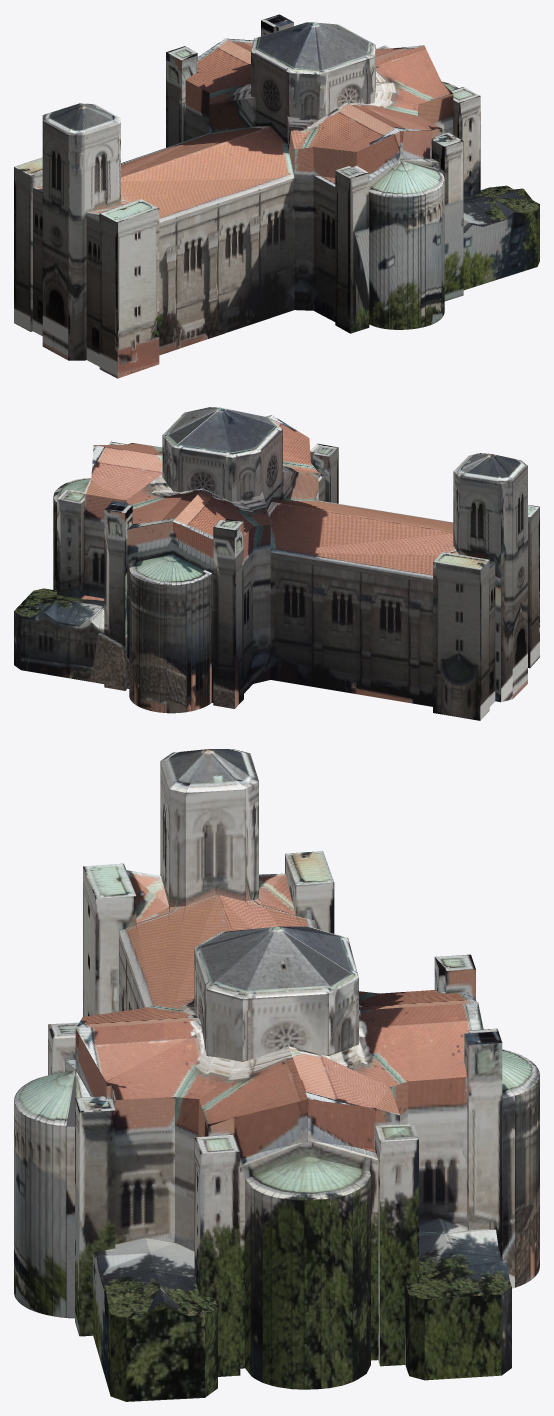
3 views of the same model, one above another, from view 1: azimuth 30°, elevation 25°; view 2: azimuth 150°, elevation 25°; view 3: azimuth 270°, elevation 25° (orthographic). The views are drawn at different scales.
Visible parts, largest first — view 1: Z_UP; view 2: Z_UP; view 3: Z_UP.
Boxes of the visible parts, left/top/right/bottom form: Z_UP: left=14, top=14, right=539, bottom=378; Z_UP: left=14, top=407, right=539, bottom=720; Z_UP: left=14, top=749, right=539, bottom=1401.
Bounding box in the file's own units: 72.59 × 36.61 × 49.52.
2 materials, 1 textured.
